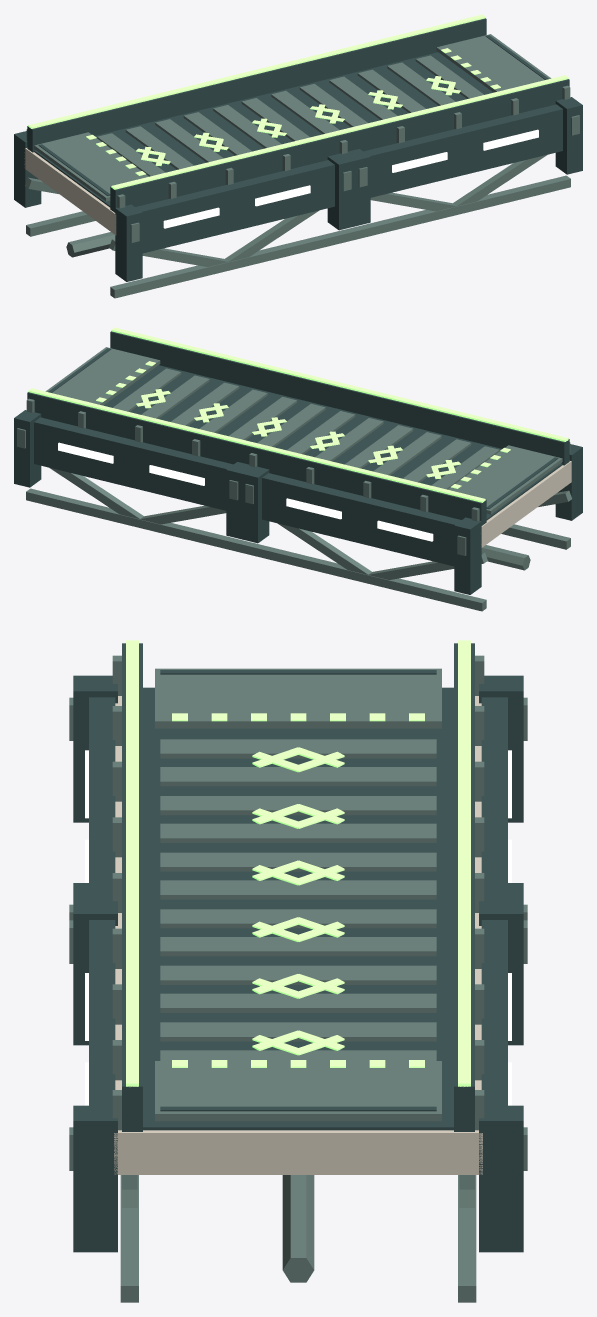
Rendered from Deck_Conveyor_Belt_v4_8_lab.glb.
3 views of the same model, one above another, from view 1: azimuth 30°, elevation 25°; view 2: azimuth 150°, elevation 25°; view 3: azimuth 270°, elevation 25° (orthographic). The views are drawn at different scales.
Visible parts, largest first — view 1: Deck_Conveyor_Belt_v4_8, Treads, TreadsRev; view 2: Deck_Conveyor_Belt_v4_8, Treads, TreadsRev; view 3: Deck_Conveyor_Belt_v4_8, Treads, TreadsRev.
Part boxes in pixels (bbox=[...]): Deck_Conveyor_Belt_v4_8: bbox=[14, 14, 582, 298]; Treads: bbox=[101, 55, 484, 175]; TreadsRev: bbox=[97, 56, 481, 176]; Deck_Conveyor_Belt_v4_8: bbox=[14, 327, 582, 611]; Treads: bbox=[112, 368, 494, 489]; TreadsRev: bbox=[114, 369, 499, 489]; Deck_Conveyor_Belt_v4_8: bbox=[69, 640, 527, 1302]; Treads: bbox=[160, 739, 436, 1060]; TreadsRev: bbox=[160, 739, 436, 1060].
Bounding box in the file's own units: 8.05 × 1.83 × 3.48.
